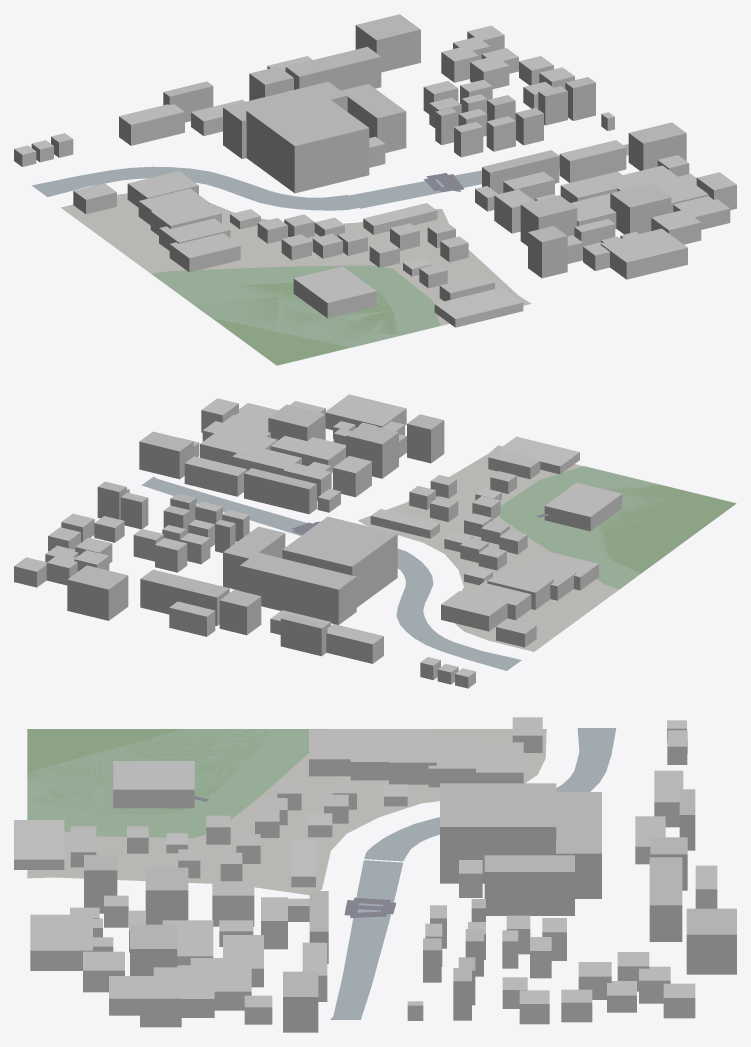
The model's file is 113_100_mid.glb.
The picture shows the model from 3 angles, top to bottom: view 1: azimuth 30°, elevation 25°; view 2: azimuth 150°, elevation 25°; view 3: azimuth 270°, elevation 25°; orthographic projection. The views are drawn at different scales.
Bounding box in the file's own units: 520 × 46.55 × 526.
